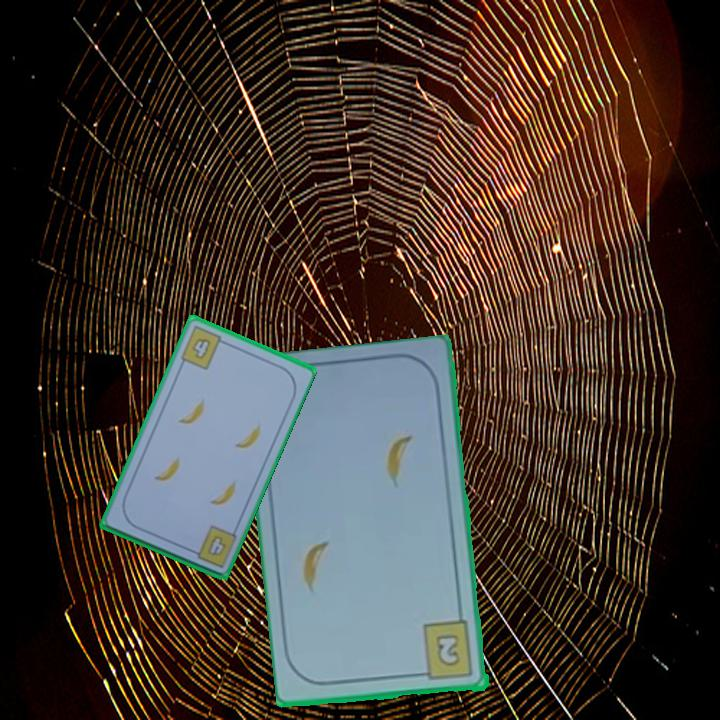2b: (415, 618, 476, 684)
4b: (176, 322, 230, 373), (203, 532, 229, 559)
